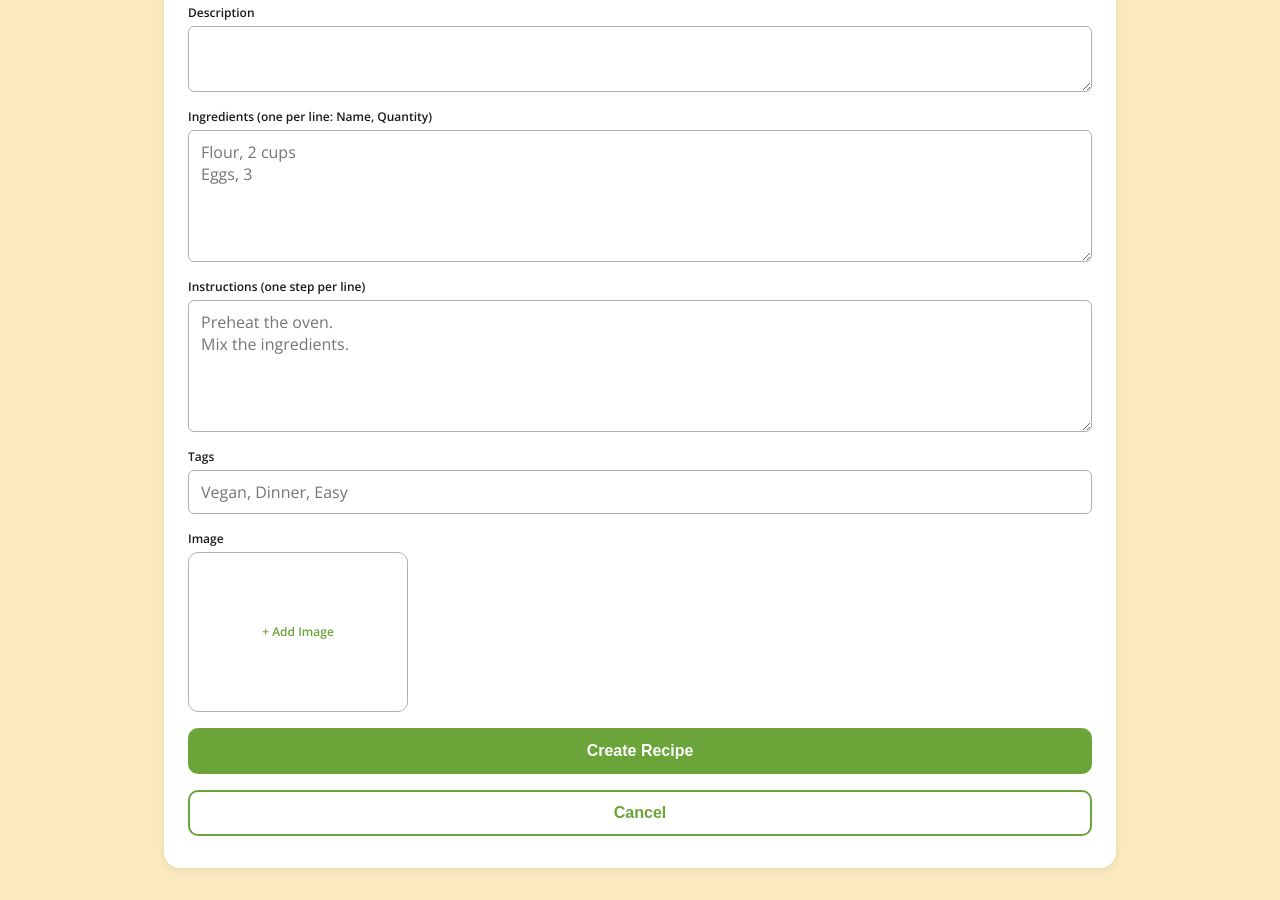
Test: RecipeForm › shows a validation error when required fields are missing
The image size is (1280, 900).
(page scrolled)
Click the button "Create Recipe".
click(640, 751)  # box x1=188 y1=728 x2=1092 y2=774
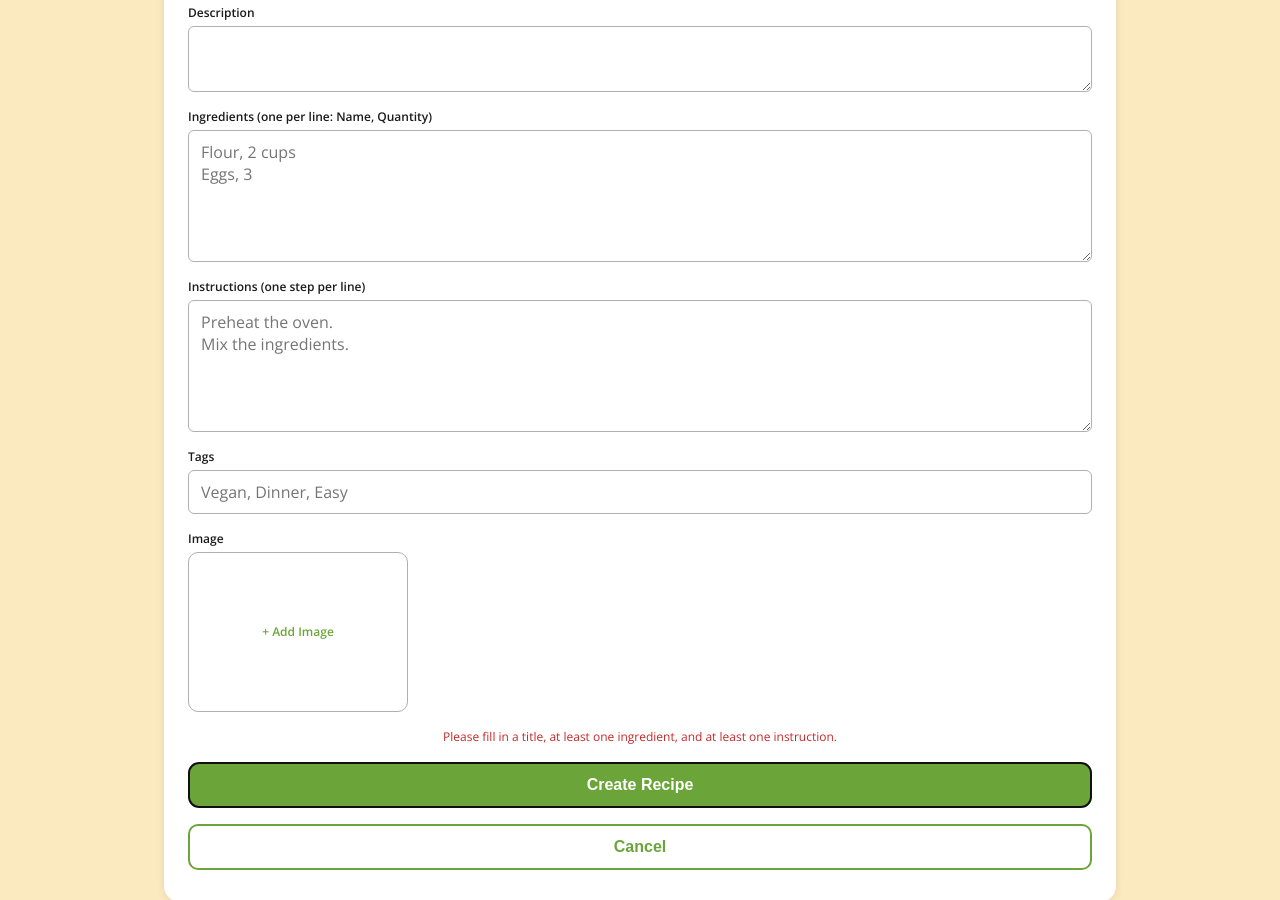
Expected: the text "Please fill in a title, at least one ingredient, and at least one instruction." is shown, x1=443 y1=728 x2=837 y2=745
